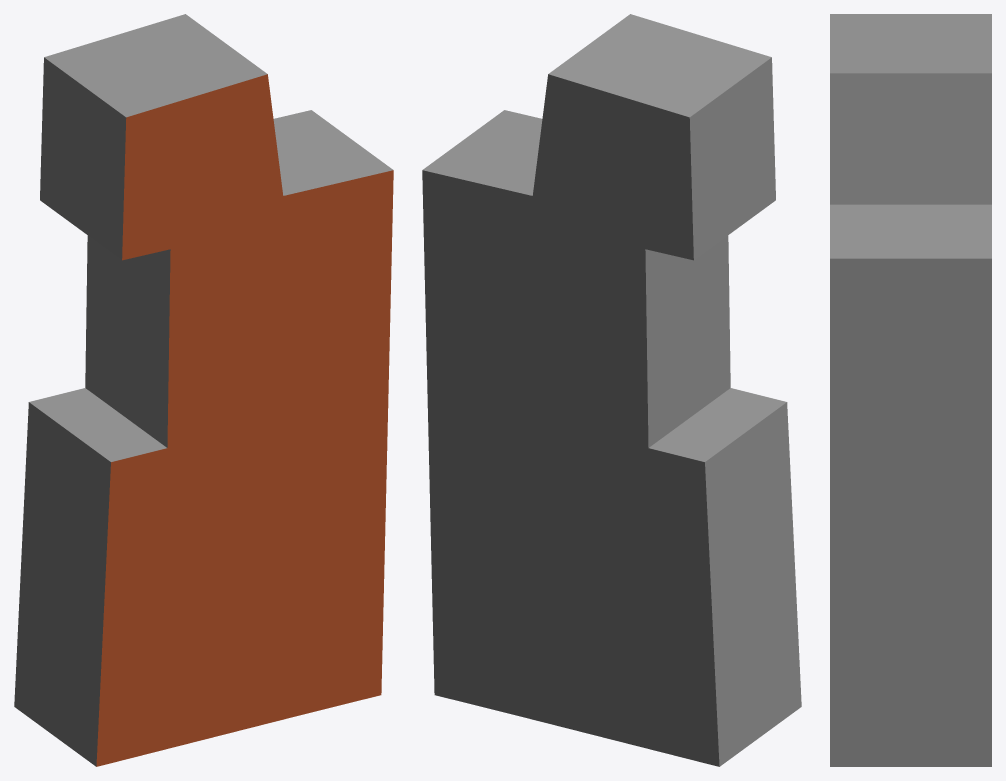
The model's file is construction_0987_assumed_A_Casa_h6m.obj.
The picture shows the model from 3 angles, left to right: view 1: azimuth 30°, elevation 25°; view 2: azimuth 150°, elevation 25°; view 3: azimuth 270°, elevation 25°; orthographic projection.
Parts seen in each view (by area): view 1: construction_0987_assumed_A_Casa; view 2: construction_0987_assumed_A_Casa; view 3: construction_0987_assumed_A_Casa.
Boxes of the visible parts, left/top/right/bottom form: construction_0987_assumed_A_Casa: left=14, top=14, right=393, bottom=766; construction_0987_assumed_A_Casa: left=422, top=14, right=801, bottom=766; construction_0987_assumed_A_Casa: left=830, top=14, right=991, bottom=766.
Bounding box in the file's own units: 12.52 × 26.21 × 6.
